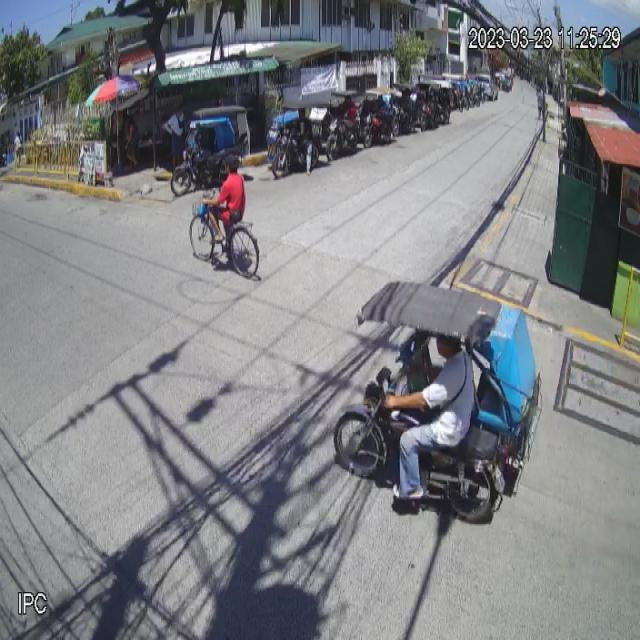Tricycle: (333, 280, 543, 524)
